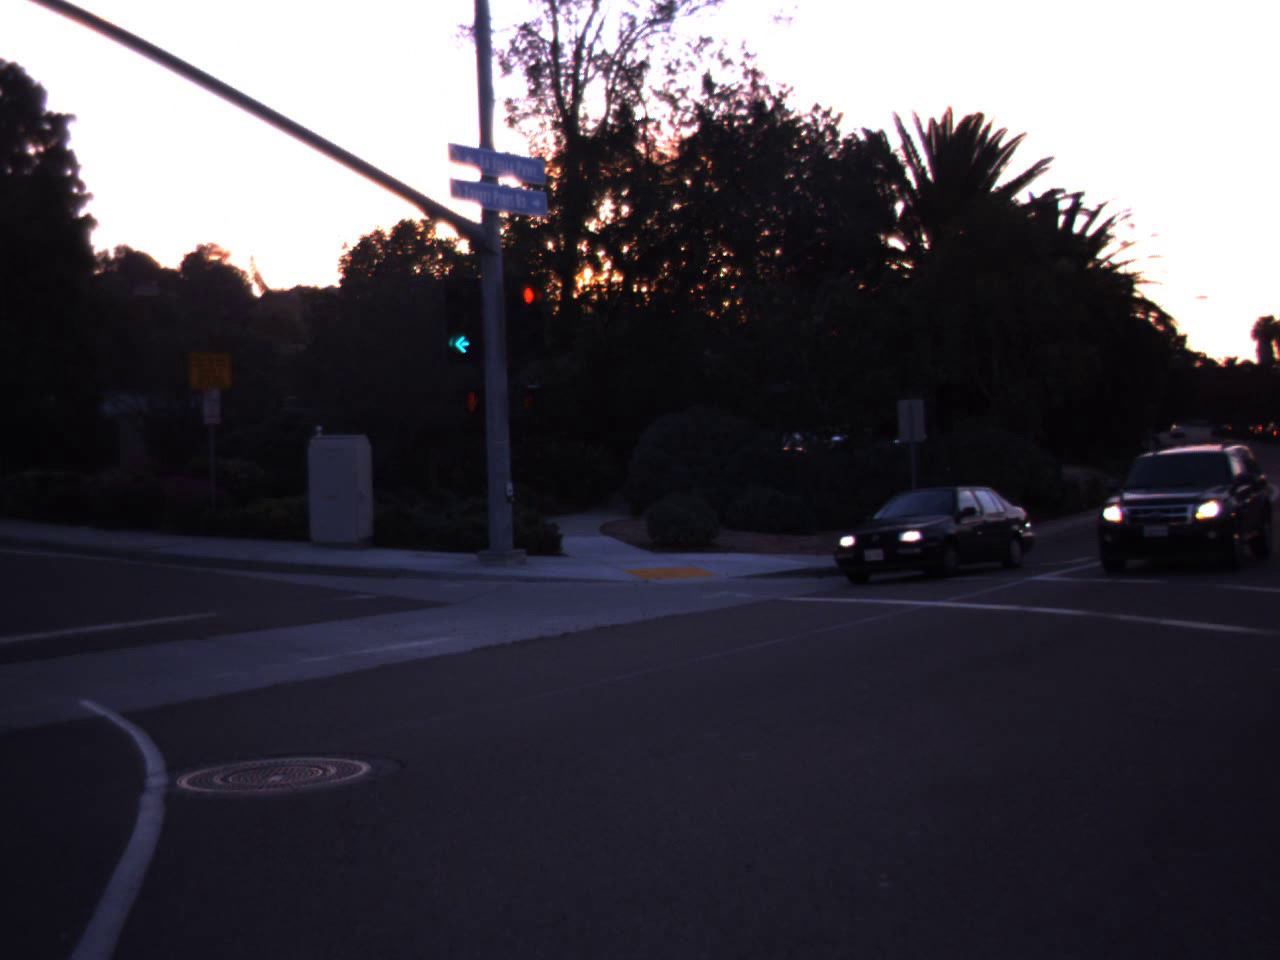go: (435, 276, 489, 361)
